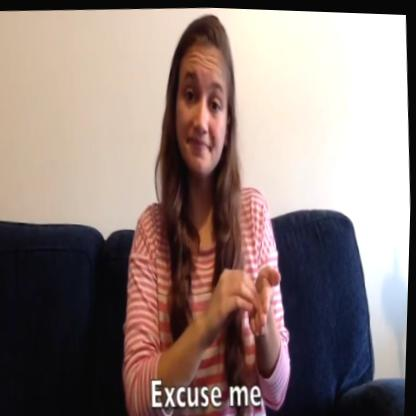ExcuseMe: (208, 240, 295, 346)
